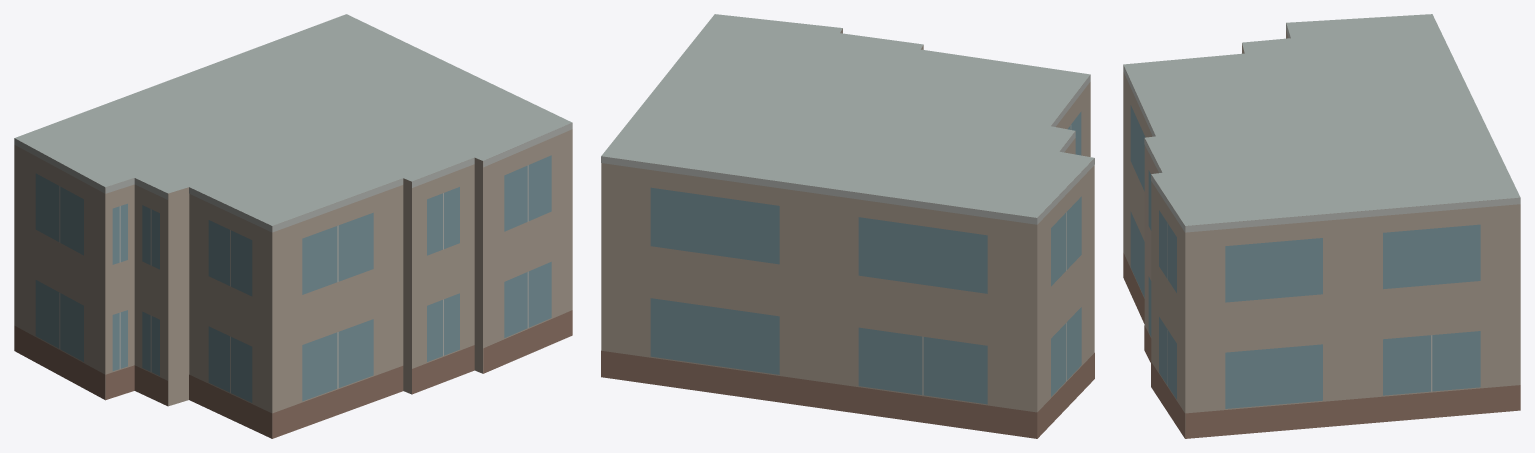
File: survey-upis-32491192.glb
The picture shows the model from 3 angles, left to right: view 1: azimuth 30°, elevation 25°; view 2: azimuth 150°, elevation 25°; view 3: azimuth 270°, elevation 25°; orthographic projection. The views are drawn at different scales.
Visible parts, largest first — view 1: survey-upis-32491192.tmp; view 2: survey-upis-32491192.tmp; view 3: survey-upis-32491192.tmp.
Part boxes in pixels (x1,y1,x2,y2): survey-upis-32491192.tmp: (14, 14, 572, 438); survey-upis-32491192.tmp: (601, 14, 1094, 438); survey-upis-32491192.tmp: (1123, 14, 1520, 438).
Size of the model in its own units: 16.88 by 7.9 by 13.38.
